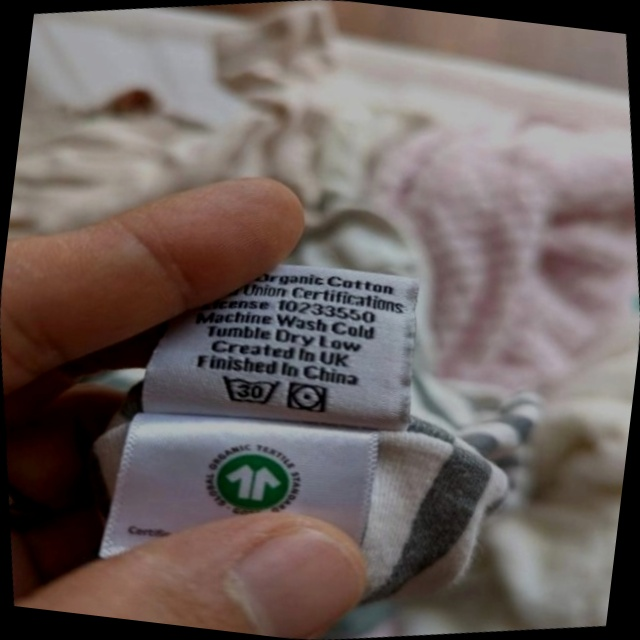30C: (209, 360, 289, 420)
tumble_dry_low: (278, 371, 337, 424)
